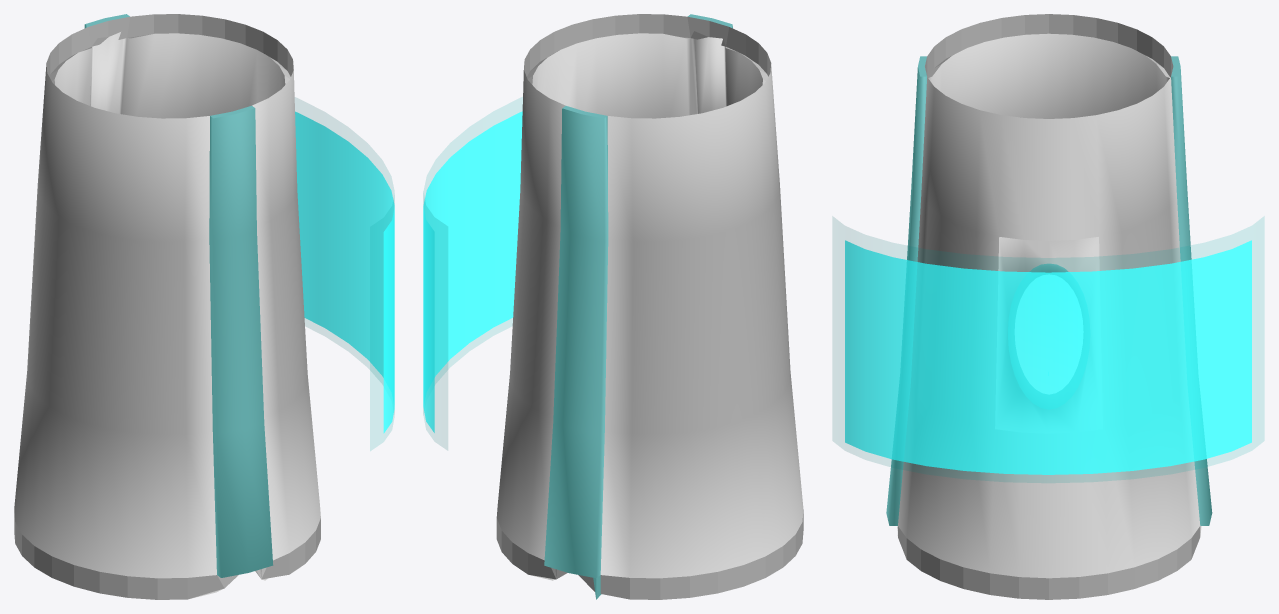
File: Gauntlet.fbx
3 views of the same model, side by side, from view 1: azimuth 30°, elevation 25°; view 2: azimuth 150°, elevation 25°; view 3: azimuth 270°, elevation 25° (orthographic).
Visible parts, largest first — view 1: Cylinder, Overlay; view 2: Cylinder, Overlay; view 3: Cylinder, Overlay.
Boxes of the visible parts, x1=… form: Cylinder: x1=14, y1=14, x2=320, y2=599; Overlay: x1=295, y1=98, x2=394, y2=450; Cylinder: x1=496, y1=14, x2=803, y2=599; Overlay: x1=423, y1=97, x2=522, y2=449; Cylinder: x1=886, y1=14, x2=1212, y2=599; Overlay: x1=833, y1=217, x2=1263, y2=482.
Size of the model in its own units: 292 by 417 by 348.
